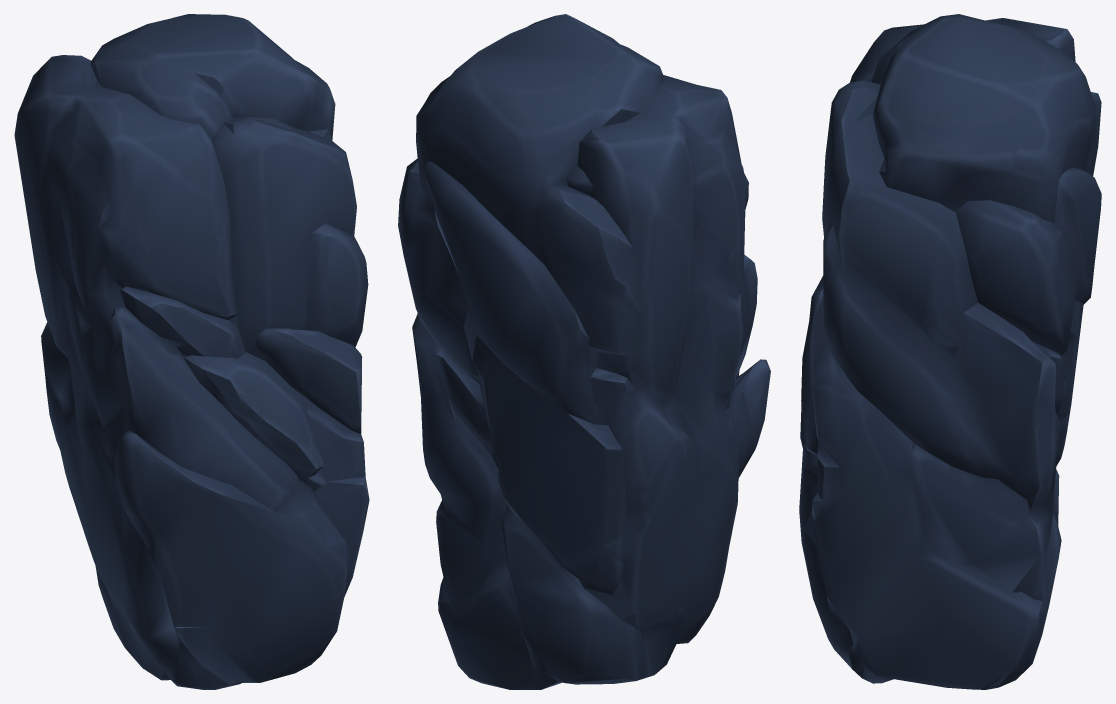
Rendered from CliffRock_A.fbx.
The picture shows the model from 3 angles, left to right: view 1: azimuth 30°, elevation 25°; view 2: azimuth 150°, elevation 25°; view 3: azimuth 270°, elevation 25°; orthographic projection. The views are drawn at different scales.
Parts seen in each view (by area): view 1: SM_RockCliff_A; view 2: SM_RockCliff_A; view 3: SM_RockCliff_A.
Part boxes in pixels (<box>): SM_RockCliff_A: <box>14,14,369,689</box>; SM_RockCliff_A: <box>398,14,770,689</box>; SM_RockCliff_A: <box>799,14,1101,689</box>.
Bounding box in the file's own units: 224 × 494 × 217.
